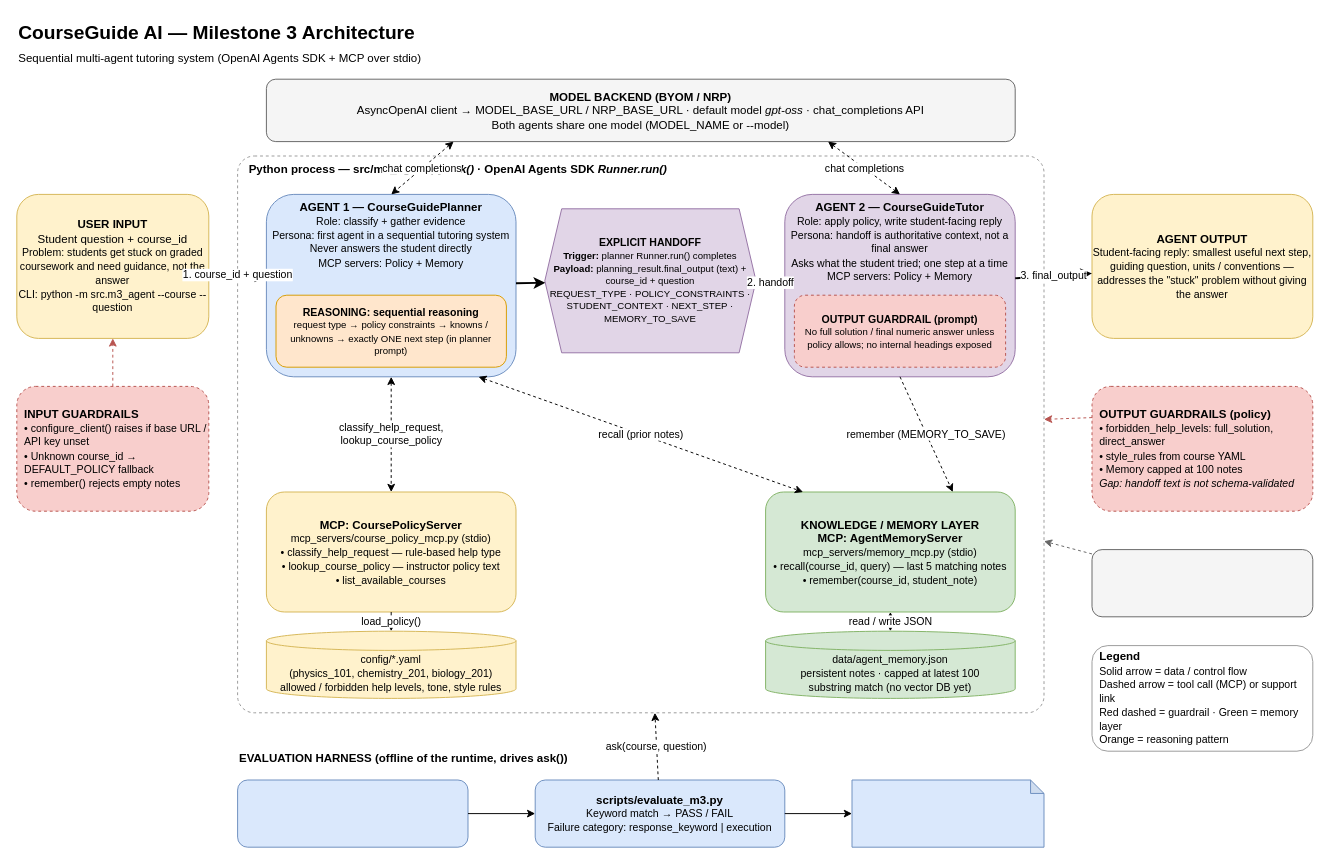
Image size: 1330x864. Some labels were removed from this diagram. The box of each missing label's shape, as (x1, y1, x2, y2) in pixels:
evaluation_results.csv Overall pass rate vs. success threshold: (851, 779, 1044, 847)
tests/m3_evaluation_cases.yaml 10 cases: input, course_id, expected keywords: (237, 779, 468, 847)
Tracing ConsoleTracingProcessor logs spans, tool calls, token usage: (1091, 549, 1313, 617)
